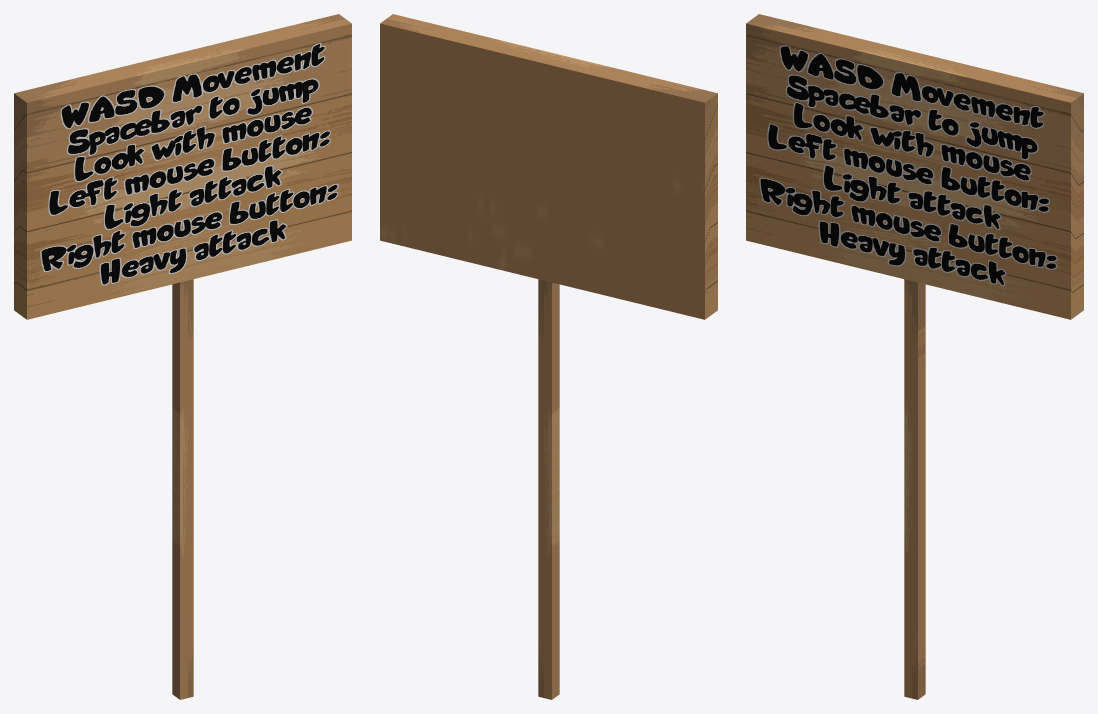
The model's file is tutorial_sign.fbx.
3 renders of one model, left to right at view 1: azimuth 30°, elevation 25°; view 2: azimuth 150°, elevation 25°; view 3: azimuth 330°, elevation 25°, orthographic.
Parts seen in each view (by area): view 1: tutorial_sign1; view 2: tutorial_sign1; view 3: tutorial_sign1.
Part boxes in pixels (x1,y1,x2,y2): tutorial_sign1: (14,14,351,699); tutorial_sign1: (380,14,717,699); tutorial_sign1: (746,14,1083,699).
Size of the model in its own units: 23.02 by 43.13 by 1.6.
Materials: 1 (1 with a texture image).
